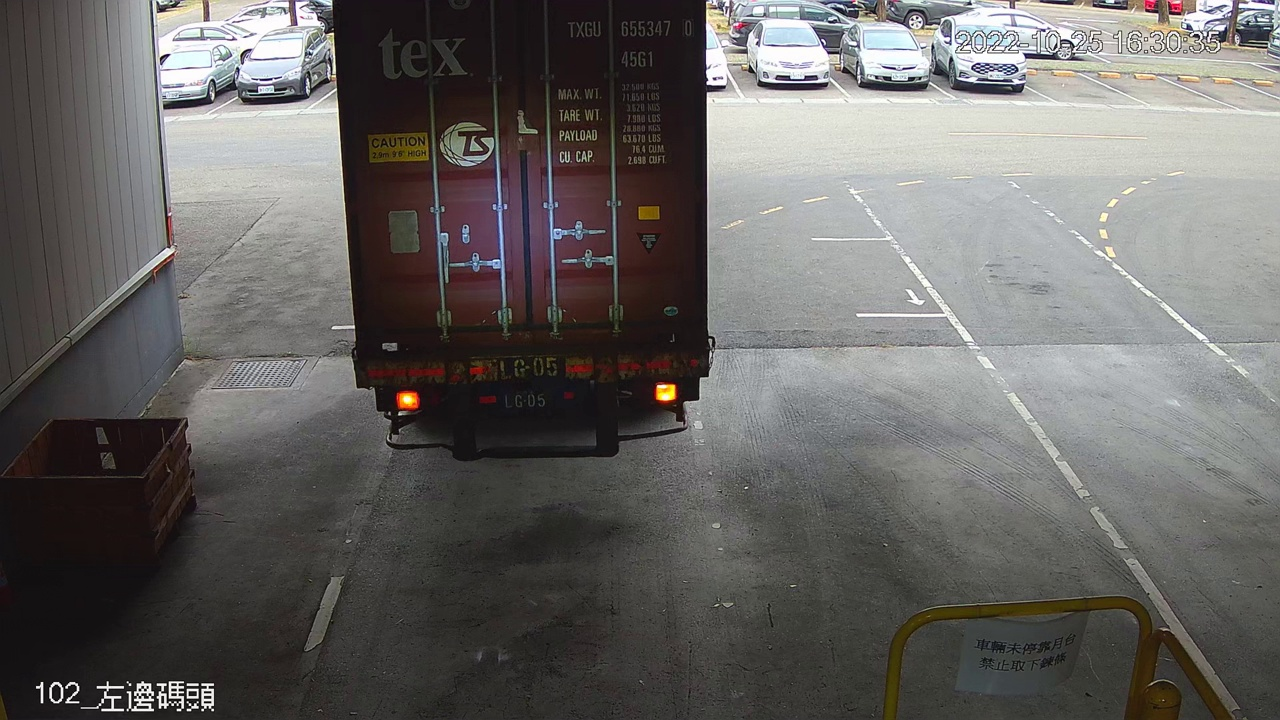container: (559, 9, 695, 73)
